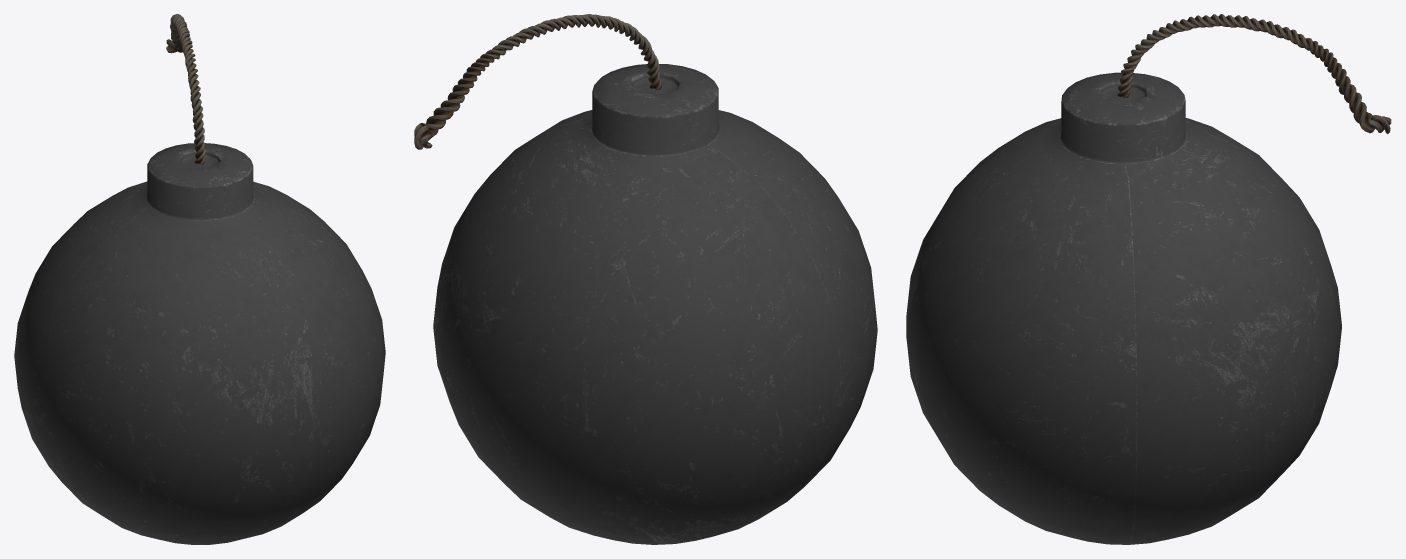
The model's file is Bomb.fbx.
The picture shows the model from 3 angles, left to right: view 1: azimuth 30°, elevation 25°; view 2: azimuth 150°, elevation 25°; view 3: azimuth 270°, elevation 25°; orthographic projection. The views are drawn at different scales.
Parts seen in each view (by area): view 1: bomb, rope; view 2: bomb, rope; view 3: bomb, rope.
Part boxes in pixels (<box>): bomb: <box>14,143,385,544</box>; rope: <box>166,14,205,164</box>; bomb: <box>433,64,877,544</box>; rope: <box>414,14,661,149</box>; bomb: <box>906,72,1341,544</box>; rope: <box>1117,14,1391,134</box>.
Size of the model in its own units: 200 by 267 by 222.
